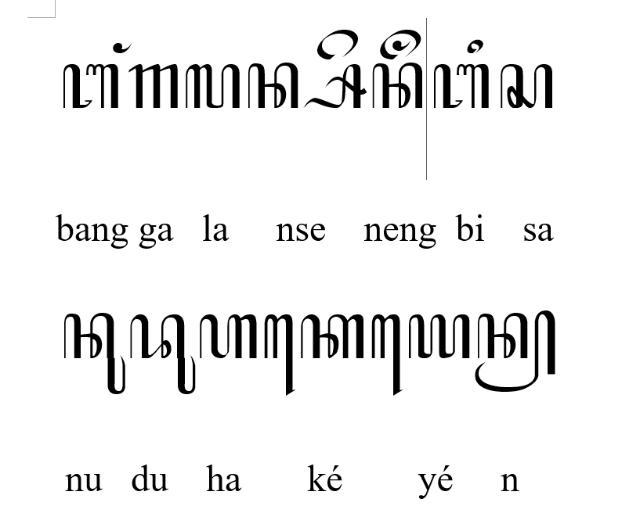-n: (474, 310, 556, 394)
_s: (304, 64, 368, 108)
b: (432, 63, 490, 109), (63, 64, 119, 110)
du: (130, 314, 196, 394)
e: (316, 28, 358, 60)
e1: (263, 314, 295, 396), (371, 314, 403, 396)
eng: (379, 30, 421, 60)
g: (128, 63, 178, 109)
h: (199, 314, 257, 360)
i: (467, 38, 483, 54)
k: (300, 315, 364, 360)
l: (185, 64, 241, 110)
n: (372, 62, 423, 110), (248, 62, 298, 108)
ng: (114, 42, 132, 54)
nu: (63, 313, 125, 395)
s: (500, 63, 552, 109)
y: (408, 315, 472, 360)
